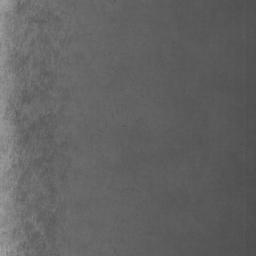Silk spot: (4, 29, 54, 256), (5, 0, 61, 34), (37, 211, 57, 242), (40, 168, 57, 204), (39, 58, 53, 85), (39, 109, 56, 130), (30, 35, 50, 51), (37, 132, 54, 143), (60, 34, 72, 47)
